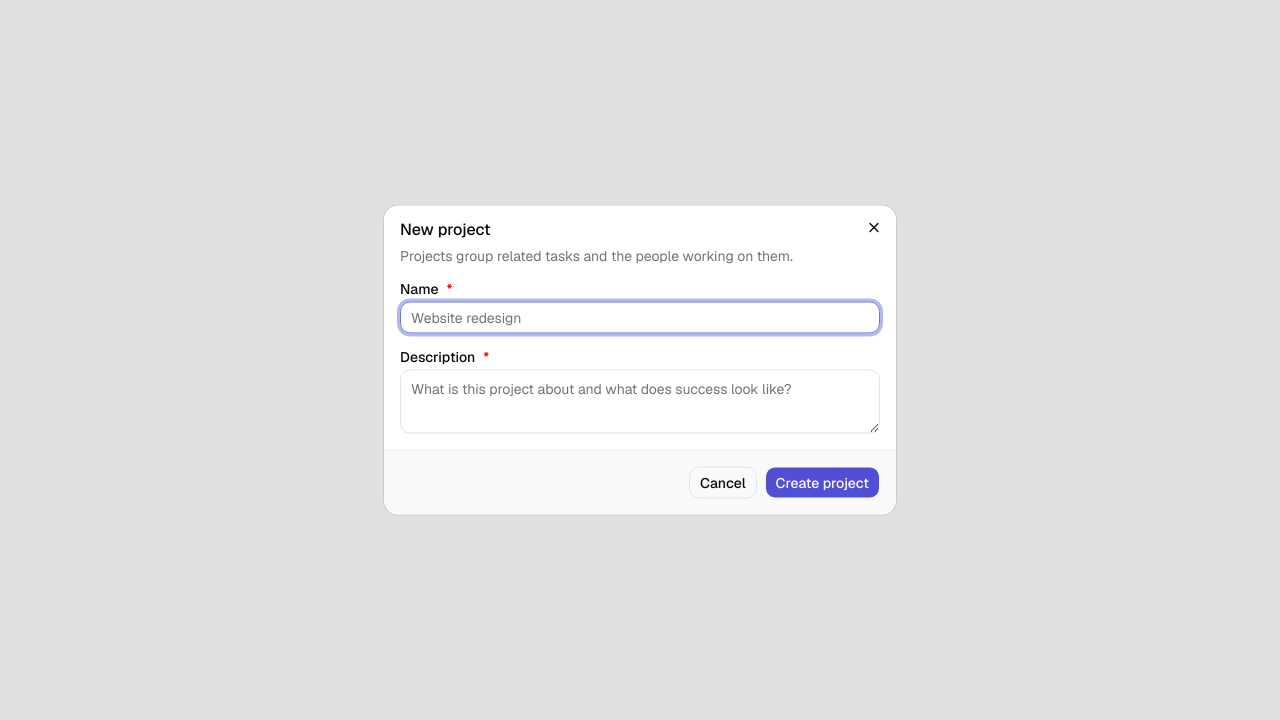
Test: ProjectFormDialog (create) › validates required fields before submitting
Click the button "Create project". click: click(822, 482)
box: [765,466,880,498]
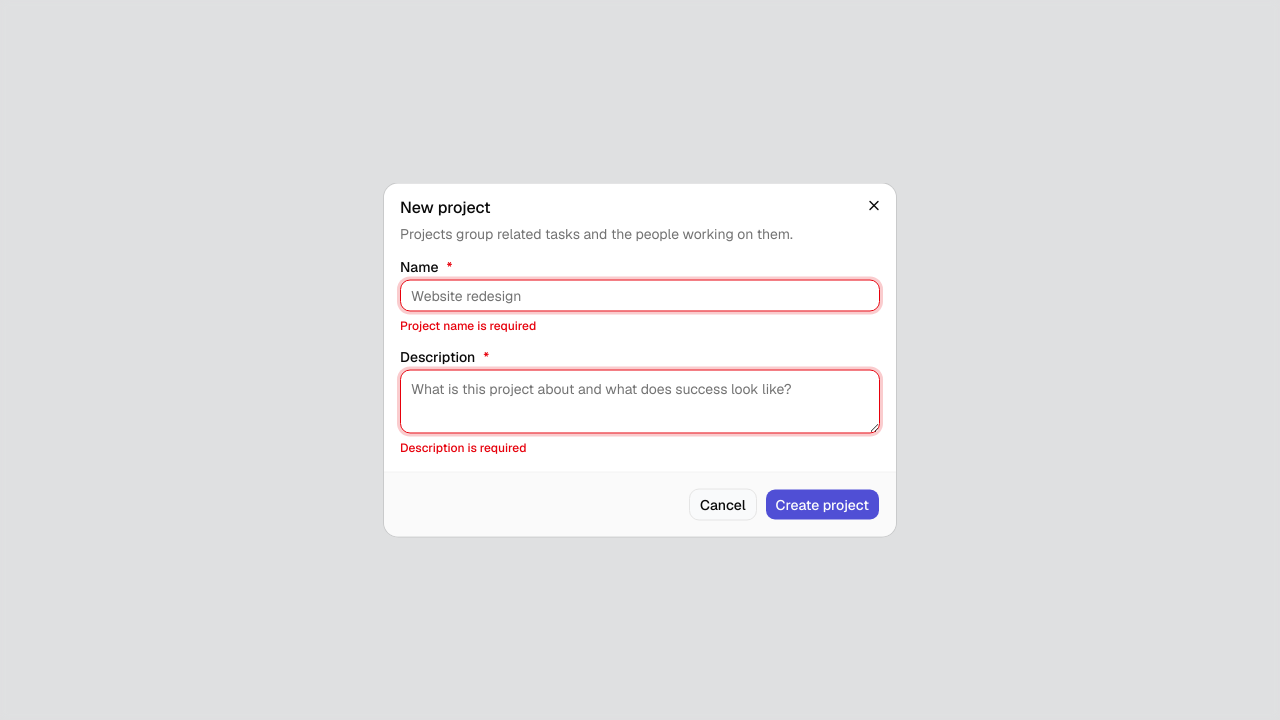
expect the text "Project name is required" is shown: met, box [400,318,536,334]
expect the text "Description is required" is shown: met, box [400,440,526,456]
